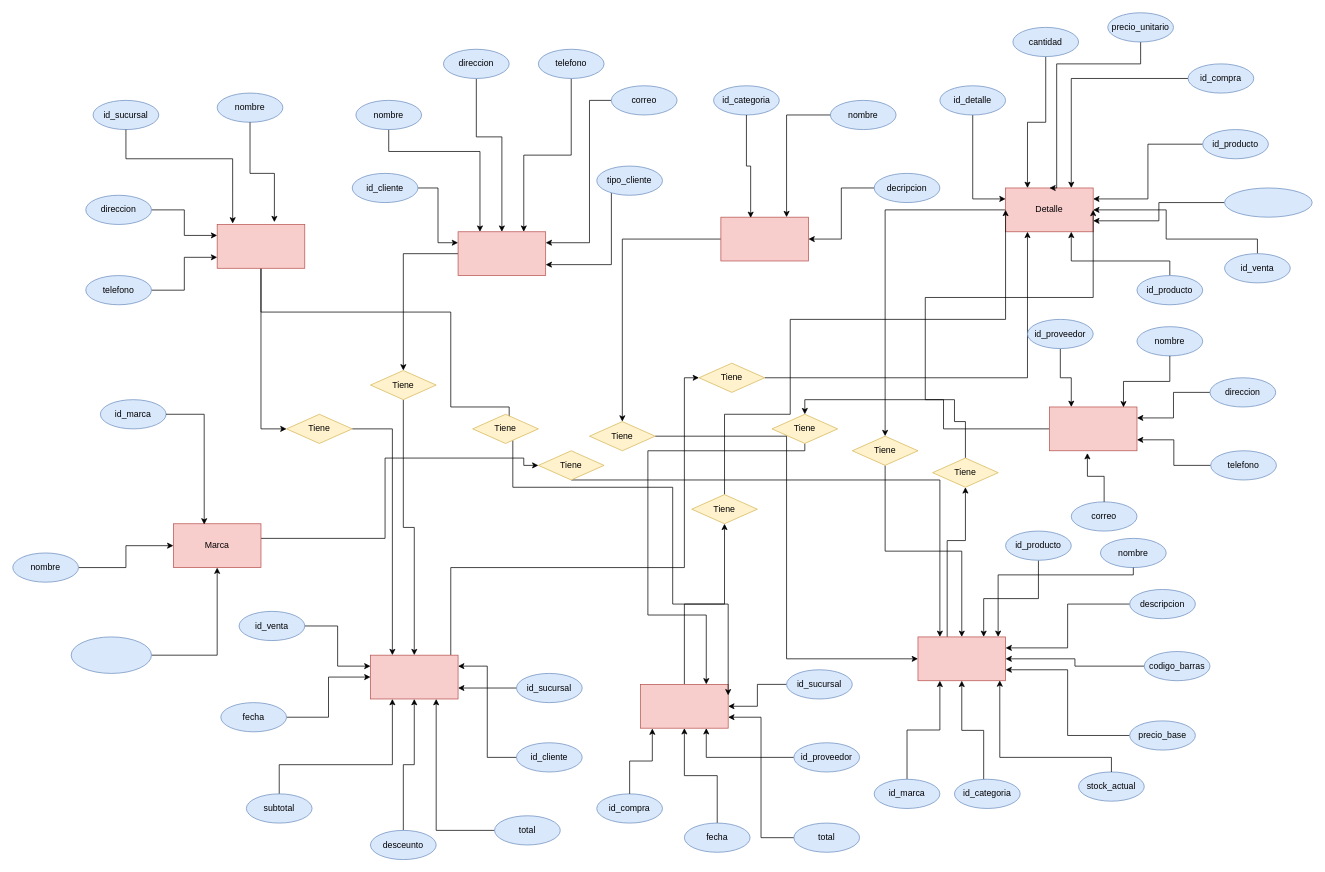
The diagram is 1325 pixels wide and 872 high, and some of its shapes have lost their labels. Here are the shapes that lost their labels. From the top down, the box of each, then its label:
(1224, 187, 1312, 217): descuento_linea
(216, 224, 305, 268): Sucursal
(457, 231, 546, 276): Cliente
(720, 216, 808, 261): Categoria
(1049, 406, 1137, 451): Proveedor
(70, 636, 151, 673): pais_origen
(917, 636, 1006, 681): Producto
(370, 654, 458, 699): Venta
(640, 684, 728, 728): Compra
